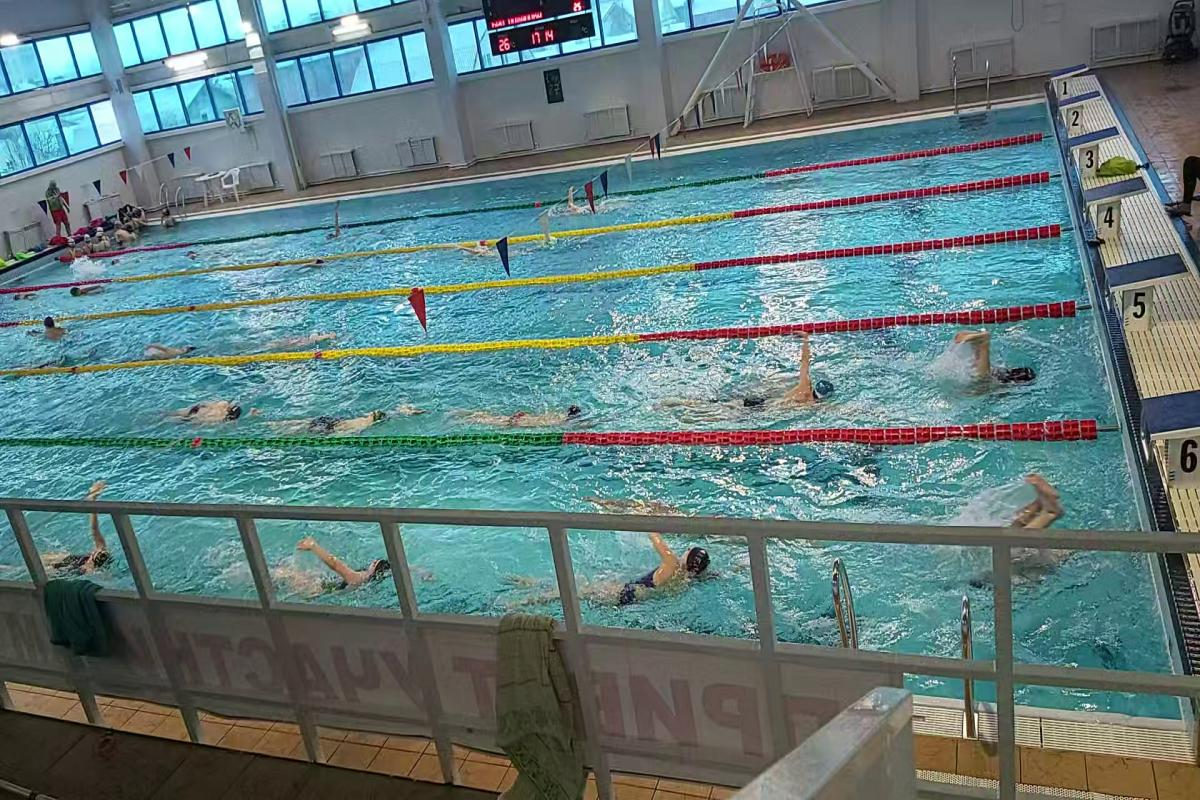swimmer: (680, 343, 852, 422), (995, 474, 1085, 621), (582, 541, 728, 613), (956, 311, 1060, 394), (282, 530, 392, 600), (457, 389, 601, 432), (278, 399, 413, 434), (39, 524, 119, 575), (150, 393, 252, 428), (140, 337, 208, 360), (561, 192, 615, 218), (33, 316, 79, 342), (70, 284, 109, 300)
